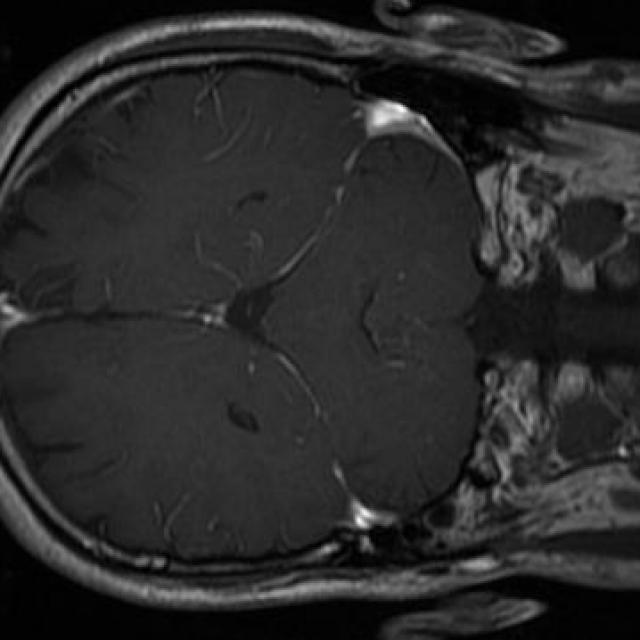glioma: (362, 278, 431, 362)
